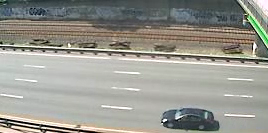car: (160, 105, 217, 133)
